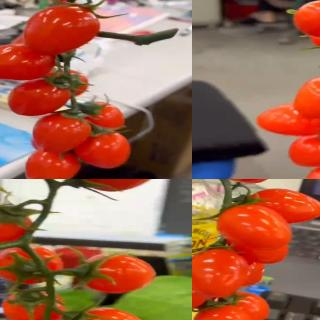tomato: (21, 0, 99, 54), (218, 203, 295, 250), (75, 251, 158, 294), (192, 246, 250, 298), (242, 187, 320, 224), (0, 243, 63, 284), (32, 113, 93, 154), (7, 79, 72, 117), (76, 130, 132, 171), (0, 41, 57, 80), (255, 102, 320, 135), (2, 288, 68, 320), (211, 291, 272, 320), (24, 149, 80, 179), (0, 203, 34, 251), (47, 69, 91, 101), (83, 103, 127, 133), (72, 179, 170, 192), (294, 74, 320, 119), (287, 136, 320, 169), (293, 0, 320, 40), (72, 307, 155, 320), (192, 305, 256, 320), (192, 273, 212, 313)
